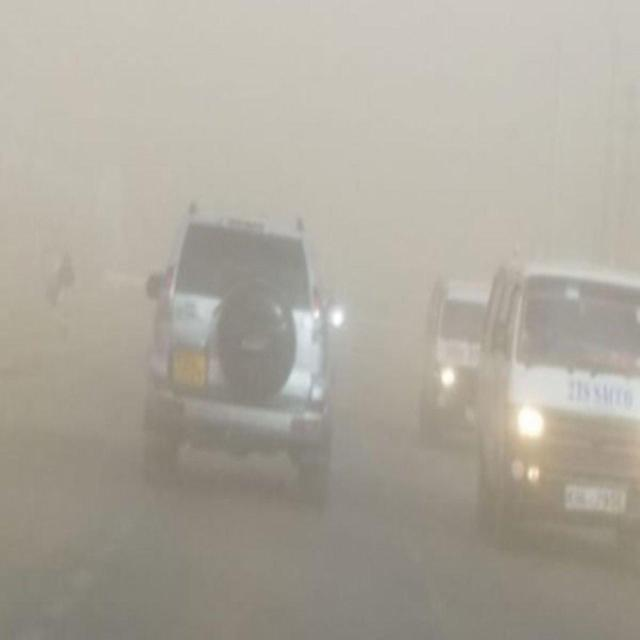Car: (142, 210, 329, 497)
Van: (474, 259, 640, 531)
